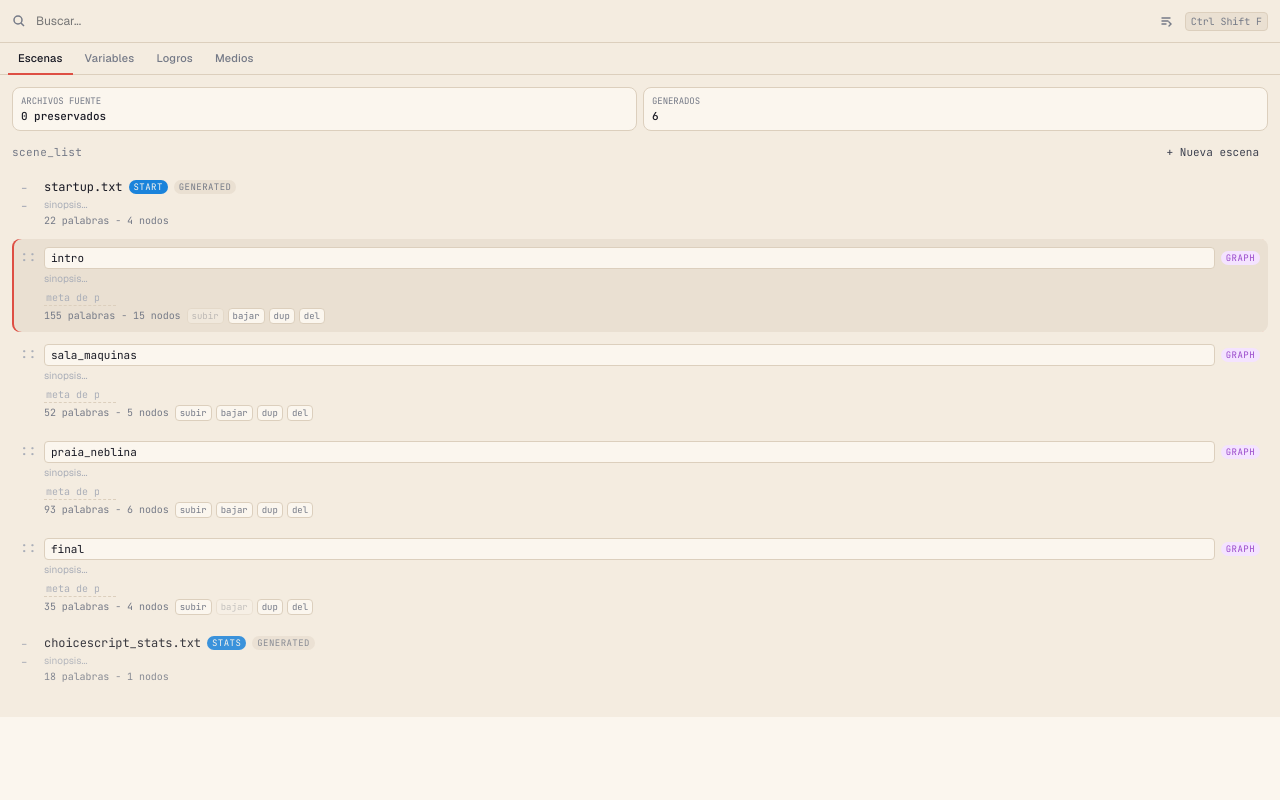
it: LeftPanel — search results title is properly localized › ES renders 'resultados' (not 'resultados' via the Portuguese path)
In the field with placeholder "Buscar...": (590, 21) [34,12,1147,30], type "scene"
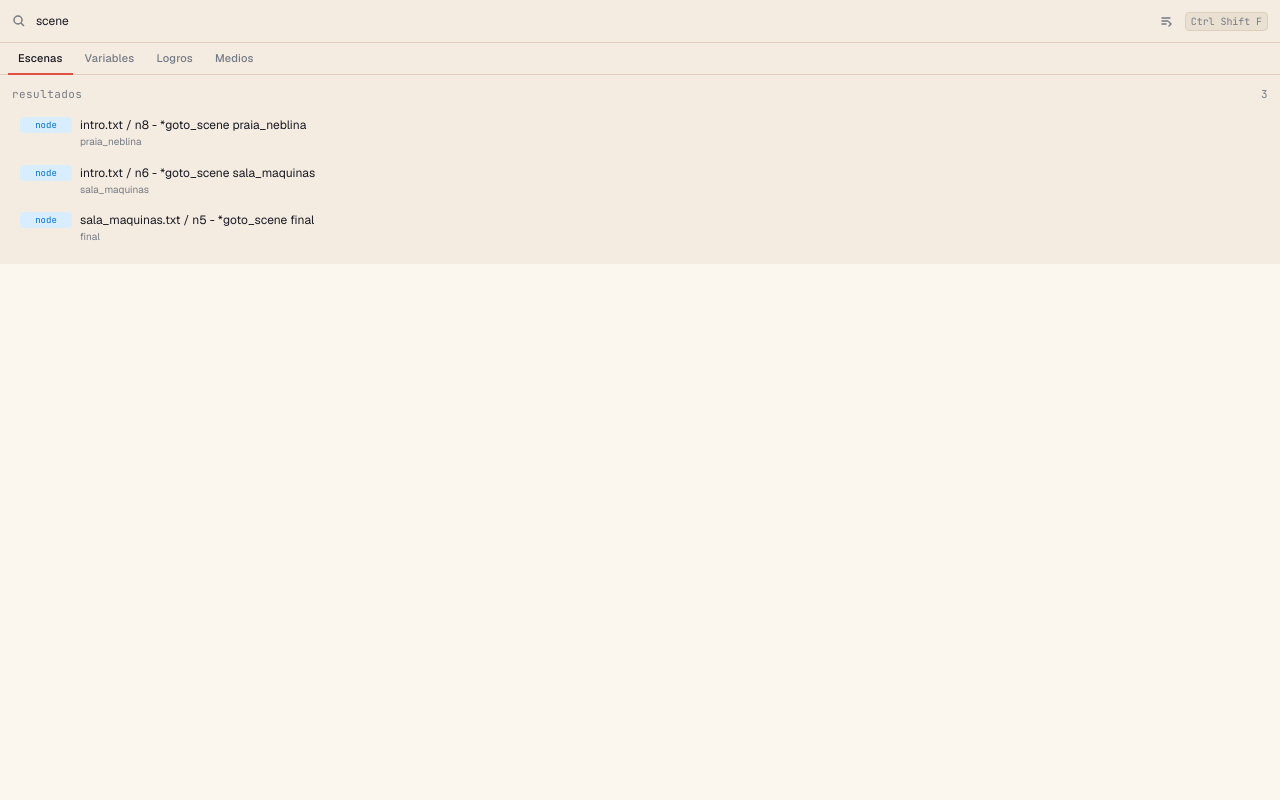
Expected: the text "resultados" is shown, [12,87,82,101]
